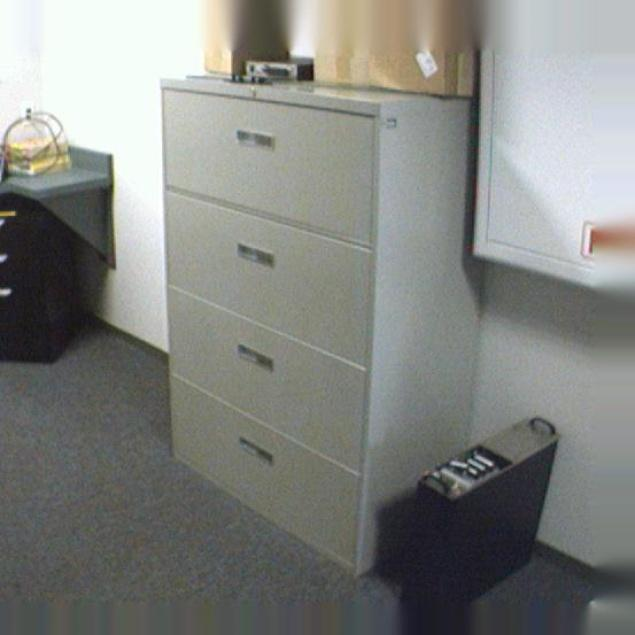Filing Cabinet: (158, 77, 382, 577)
